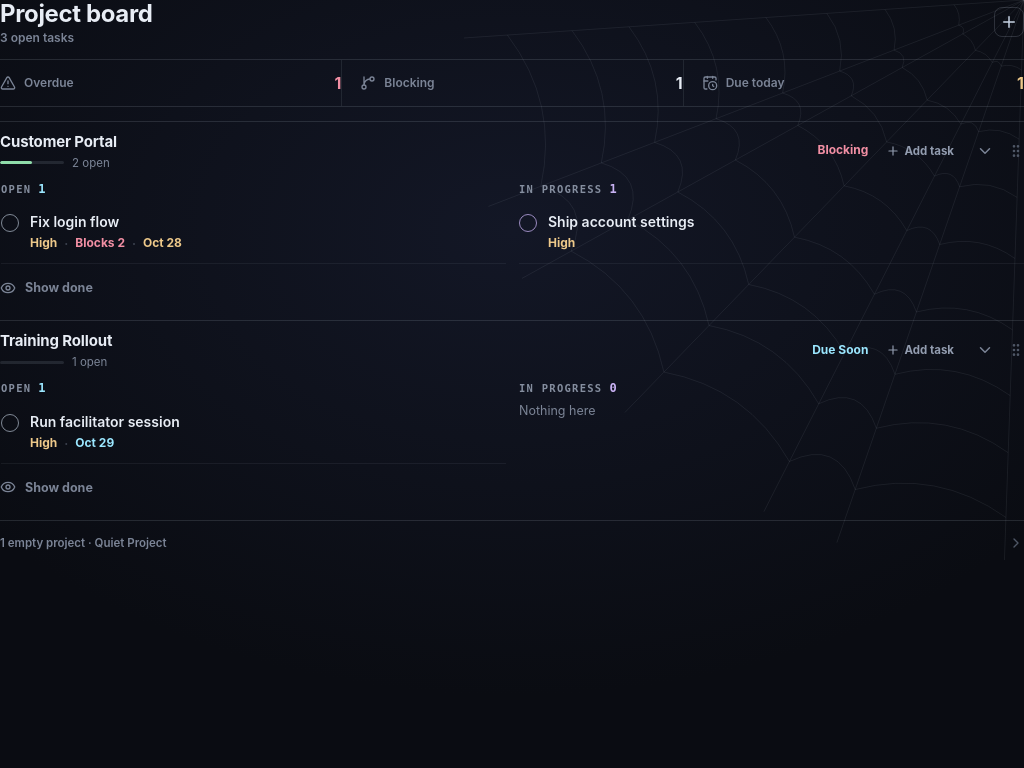
Test case: DashboardPage › creates a project from the board heading and reloads the board
Check: the heading "Project board" is shown, box [0,0,152,28]
Click the button named "New project". click: point(1009, 22)
box: [994,7,1023,37]
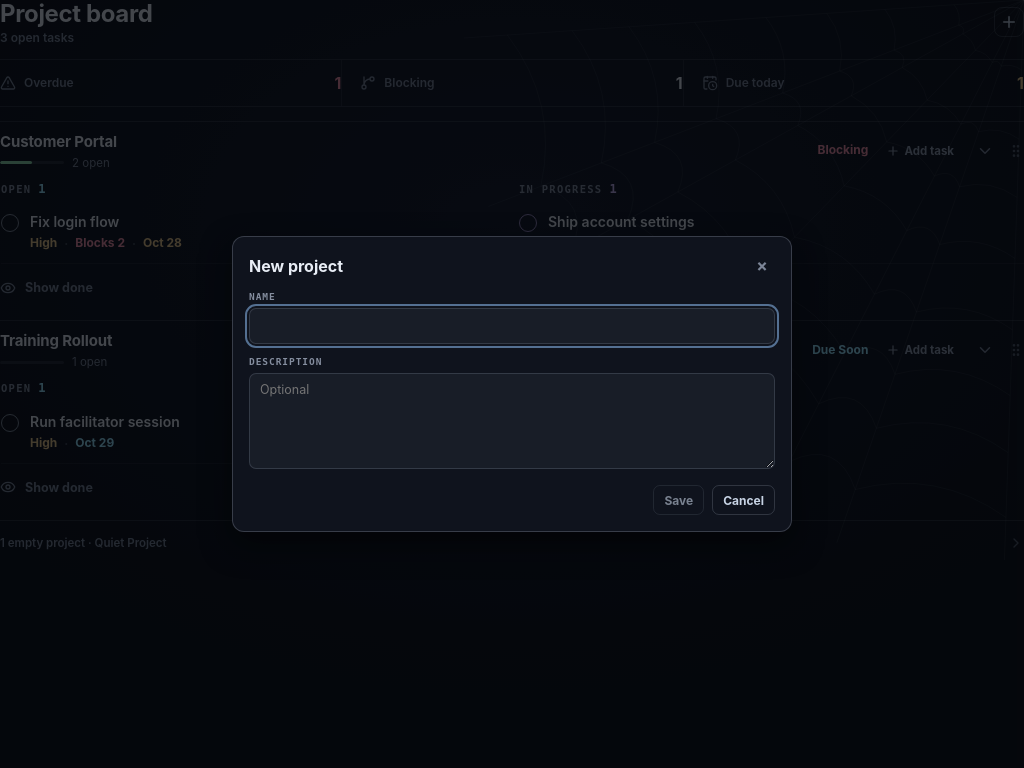
Type "New Initiative" into the field labelled "Name". click: point(512, 326)
box: [249,308,775,344]
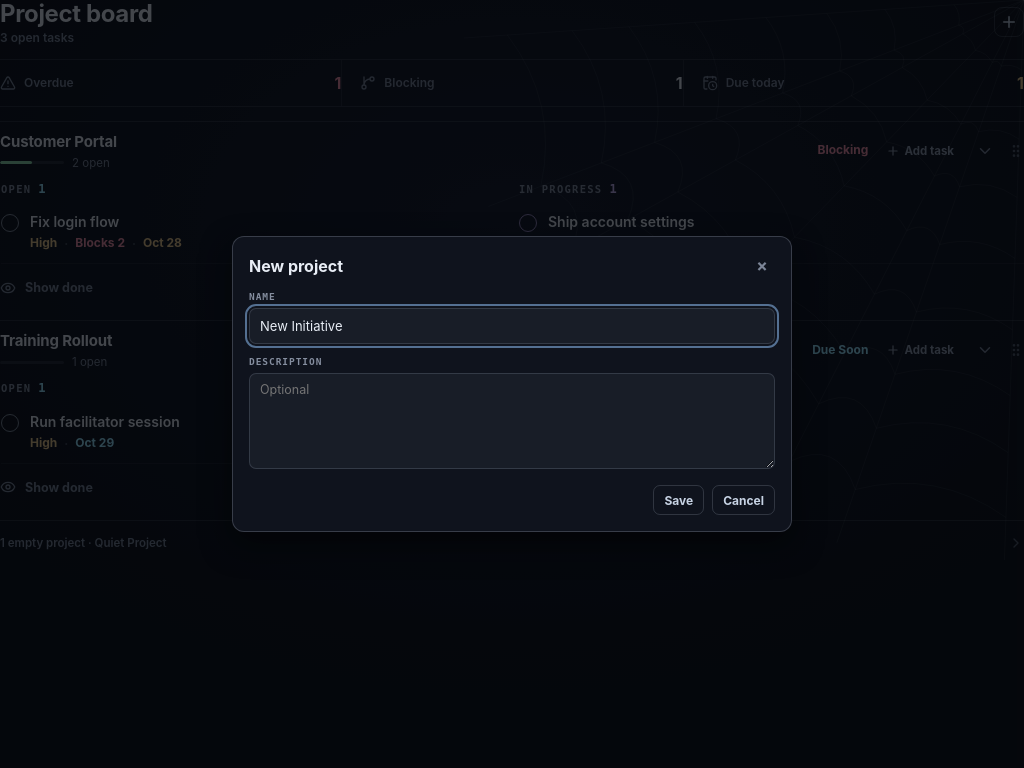
Click the button "Save". click: point(679, 500)
box: [654,485,704,515]
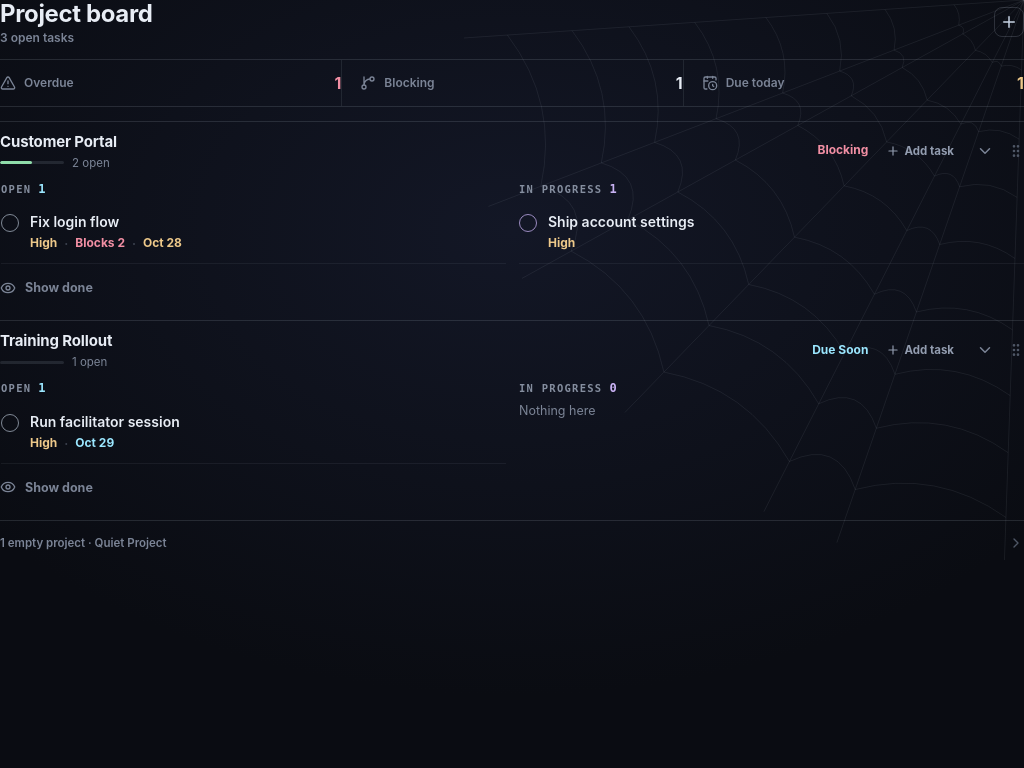
Check: the heading "New project" is gone
